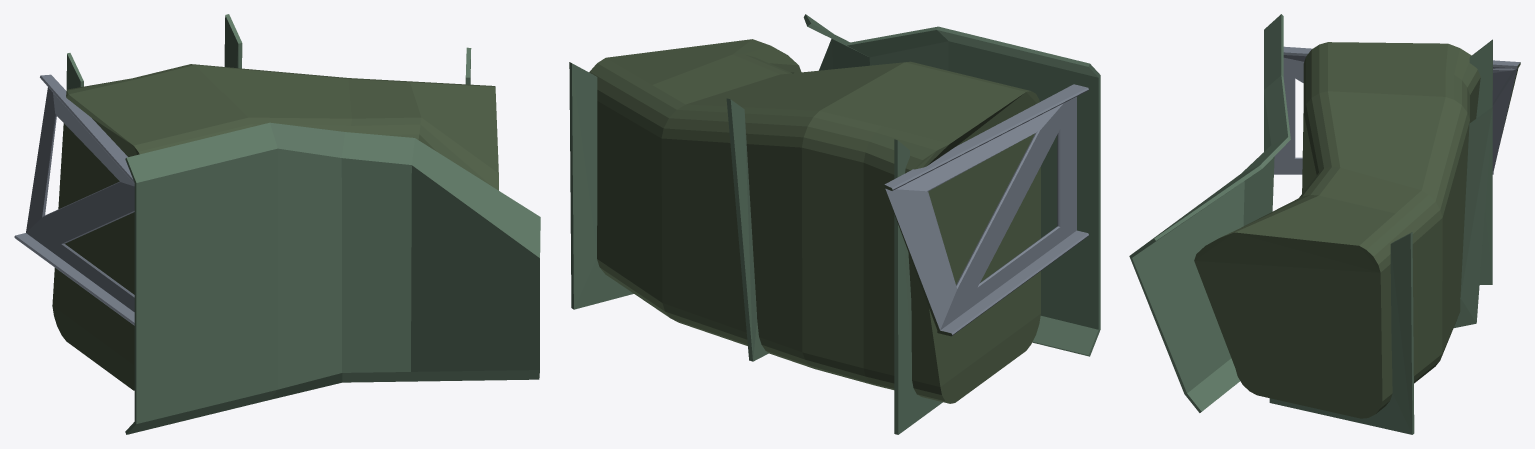
File: Track_full_003_track_001.fbx
3 views of the same model, side by side, from view 1: azimuth 30°, elevation 25°; view 2: azimuth 150°, elevation 25°; view 3: azimuth 270°, elevation 25° (orthographic). The views are drawn at different scales.
Visible parts, largest first — view 1: Track_full.003.track.001; view 2: Track_full.003.track.001; view 3: Track_full.003.track.001.
Part boxes in pixels (left/top/right/bottom): Track_full.003.track.001: left=14, top=14, right=540, bottom=434; Track_full.003.track.001: left=569, top=14, right=1100, bottom=434; Track_full.003.track.001: left=1129, top=14, right=1520, bottom=434.
Size of the model in its own units: 1.51 by 0.948 by 1.38.
